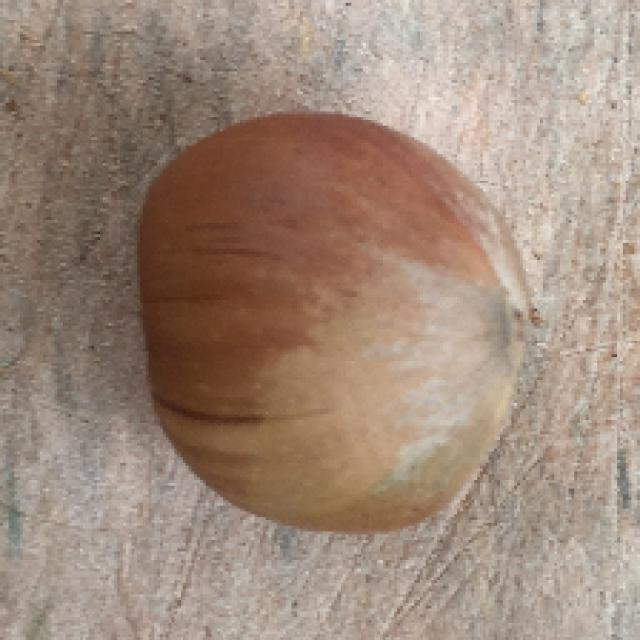qualityHazelnut: (130, 110, 544, 534)
